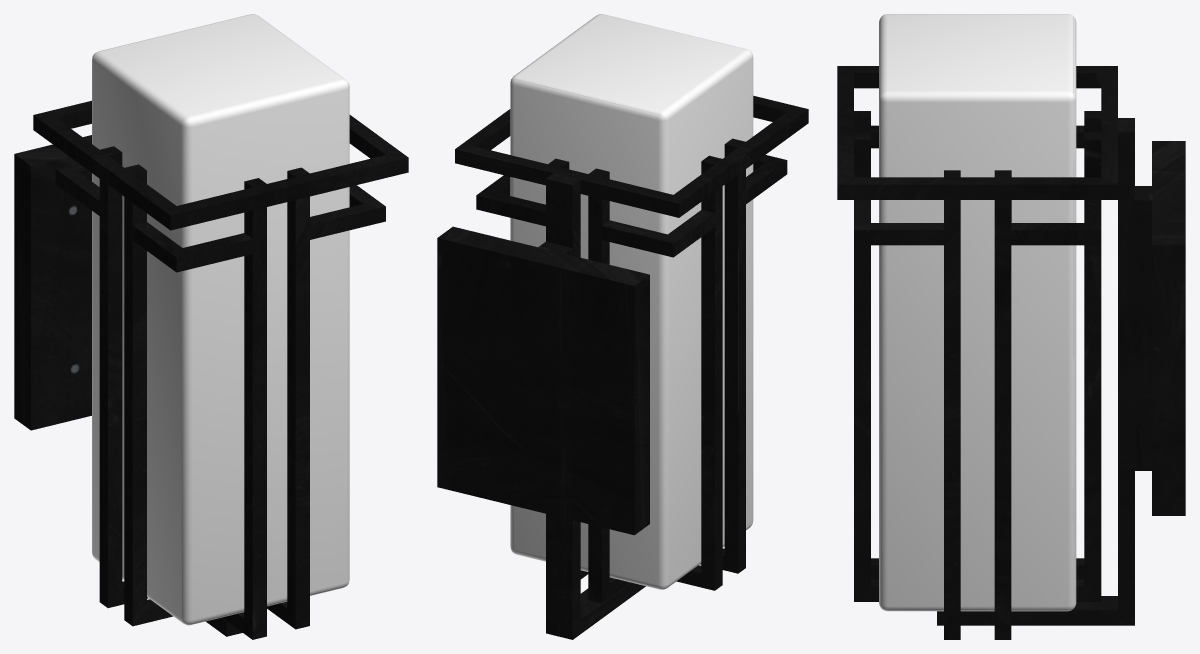
Rendered from GOInc_WallLamp.fbx.
3 renders of one model, left to right at view 1: azimuth 30°, elevation 25°; view 2: azimuth 150°, elevation 25°; view 3: azimuth 270°, elevation 25°, orthographic. The views are drawn at different scales.
Visible parts, largest first — view 1: #LMP0006_Deco_Wall_Metal_Black; view 2: #LMP0006_Deco_Wall_Metal_Black; view 3: #LMP0006_Deco_Wall_Metal_Black.
Part boxes in pixels (box(x1,y1,x2,y2)): #LMP0006_Deco_Wall_Metal_Black: box(14, 14, 408, 639); #LMP0006_Deco_Wall_Metal_Black: box(437, 14, 808, 639); #LMP0006_Deco_Wall_Metal_Black: box(837, 14, 1185, 639).
Bounding box in the file's own units: 18.9 × 41.99 × 23.45.
Materials: 1 (1 with a texture image).
